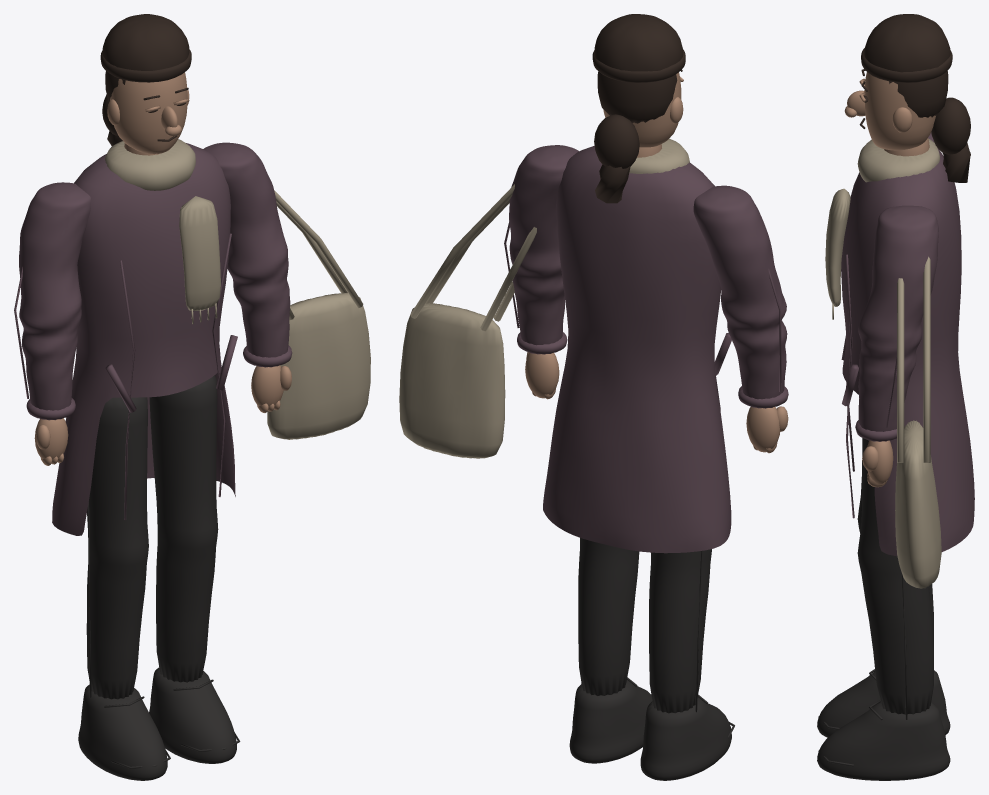
File: pedestrian-a.glb
3 renders of one model, left to right at view 1: azimuth 30°, elevation 25°; view 2: azimuth 150°, elevation 25°; view 3: azimuth 270°, elevation 25°, orthographic. The views are drawn at different scales.
Visible parts, largest first — view 1: PedestrianA_Mesh, RightLeg_Mesh, LeftLeg_Mesh, LeftArm_Mesh, RightArm_Mesh, Head_Mesh; view 2: PedestrianA_Mesh, LeftLeg_Mesh, LeftArm_Mesh, RightLeg_Mesh, Head_Mesh, RightArm_Mesh; view 3: PedestrianA_Mesh, RightLeg_Mesh, Head_Mesh, RightArm_Mesh, LeftLeg_Mesh.
Part boxes in pixels (bbox=[...]): PedestrianA_Mesh: bbox=[52, 139, 370, 535]; RightLeg_Mesh: bbox=[149, 375, 240, 763]; LeftLeg_Mesh: bbox=[78, 397, 170, 780]; LeftArm_Mesh: bbox=[14, 182, 90, 465]; RightArm_Mesh: bbox=[203, 142, 292, 412]; Head_Mesh: bbox=[100, 14, 191, 155]; PedestrianA_Mesh: bbox=[399, 138, 731, 553]; LeftLeg_Mesh: bbox=[640, 549, 734, 780]; LeftArm_Mesh: bbox=[693, 185, 788, 453]; RightLeg_Mesh: bbox=[569, 538, 652, 763]; Head_Mesh: bbox=[592, 14, 685, 203]; RightArm_Mesh: bbox=[504, 145, 578, 399]; PedestrianA_Mesh: bbox=[825, 138, 974, 588]; RightLeg_Mesh: bbox=[817, 438, 950, 780]; Head_Mesh: bbox=[844, 14, 970, 182]; RightArm_Mesh: bbox=[855, 205, 938, 487]; LeftLeg_Mesh: bbox=[817, 460, 950, 737].
Size of the model in its own units: 0.9238 by 1.76 by 0.3429.
